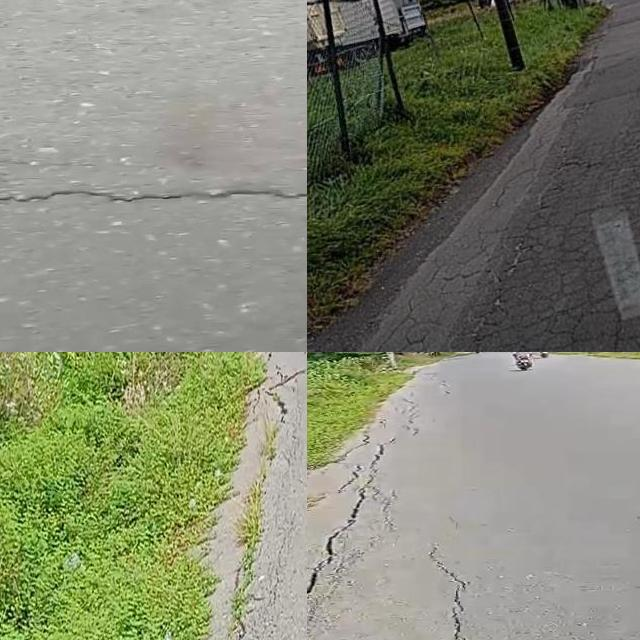Melintang: (0, 168, 307, 217)
Memanjang: (307, 451, 391, 640), (422, 543, 479, 640)
Pinggir: (140, 352, 307, 640)
Retak Buaya: (471, 149, 640, 352)
